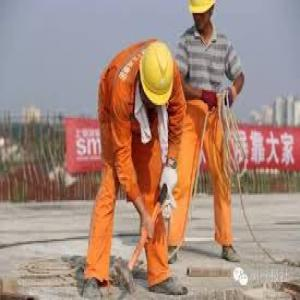yellow: (139, 39, 176, 111), (189, 3, 215, 32)
